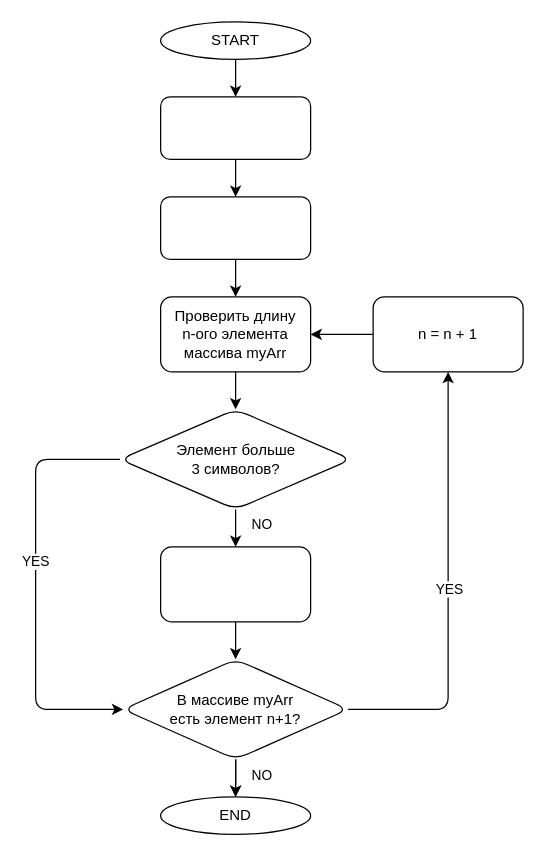
This 545x856 diagram has some shape labels left out. The box of each missing label's shape, as (x1, y1, x2, y2) in pixels:
Добавить ээлемент в массив resultArr: (159, 546, 311, 622)
Создать новый массив resultArr: (159, 196, 311, 259)
Создать новый предзаполненный массив myArr: (159, 96, 311, 159)
